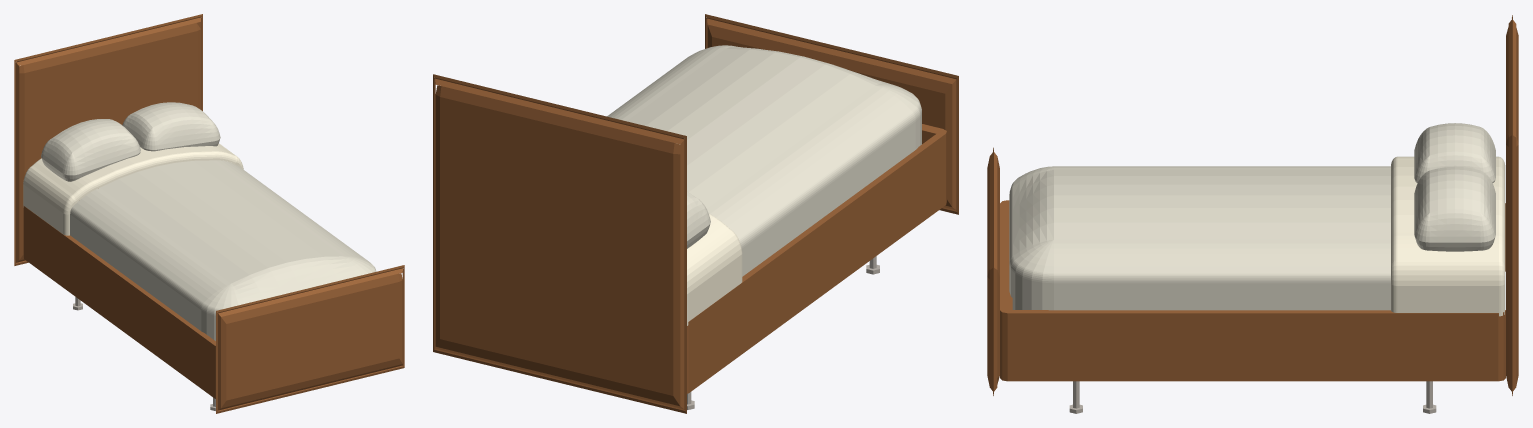
File: furniture-bed.glb
3 views of the same model, side by side, from view 1: azimuth 30°, elevation 25°; view 2: azimuth 150°, elevation 25°; view 3: azimuth 270°, elevation 25° (orthographic). The views are drawn at different scales.
Visible parts, largest first — view 1: Node; view 2: Node; view 3: Node.
Part boxes in pixels (x1,y1,x2,y2): Node: [14, 14, 404, 413]; Node: [433, 14, 958, 413]; Node: [987, 15, 1518, 413].
Bounding box in the file's own units: 1.07 × 1.26 × 2.03.
